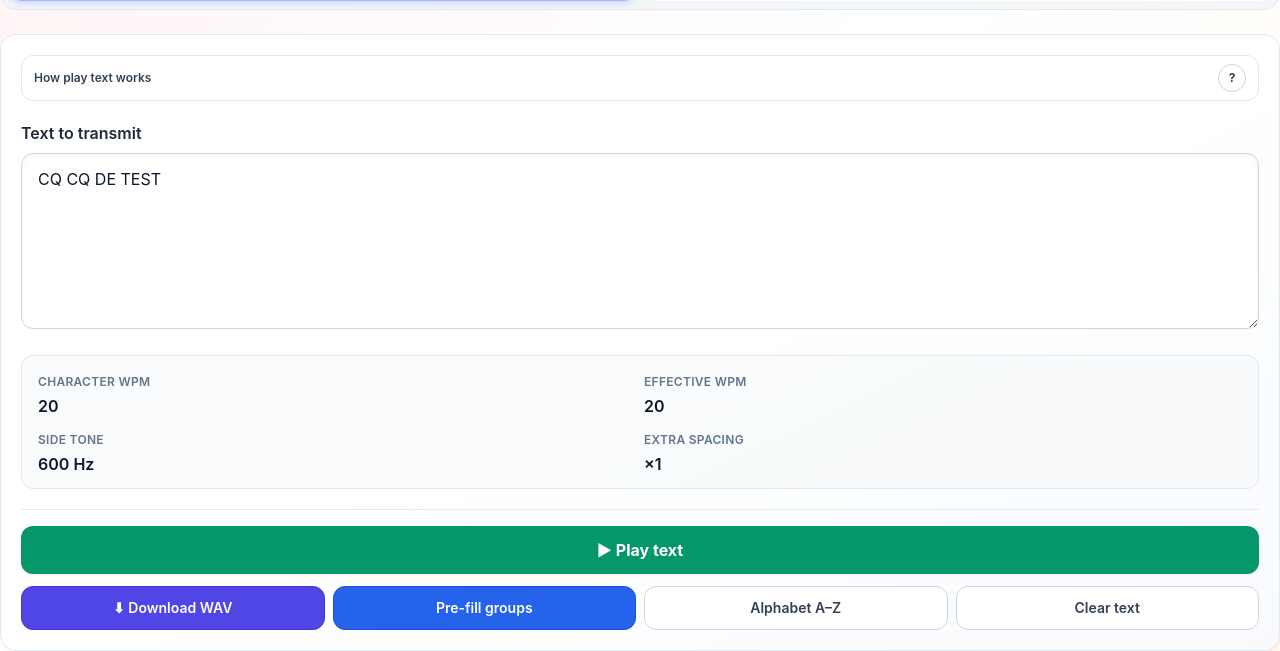
TextPlayer › should prefill text with the alphabet
(page scrolled)
Click the button "Alphabet A–Z": point(796, 608) [644,586,948,630]
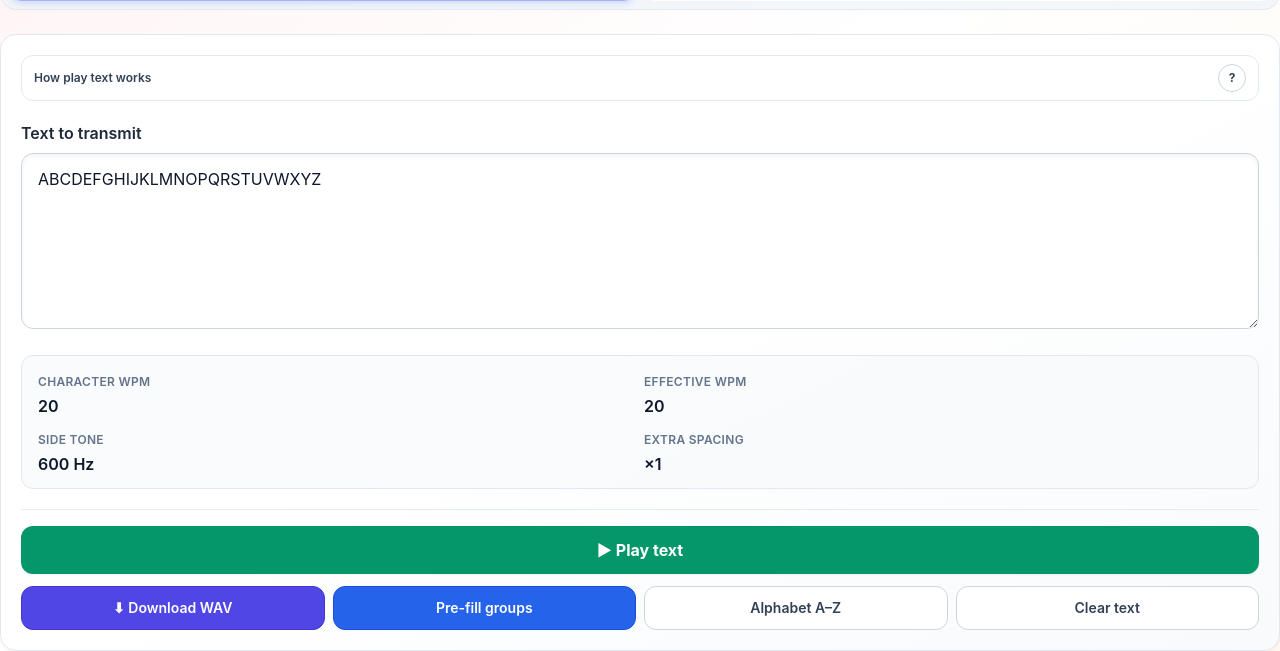
Expected: the text box showing "ABCDEFGHIJKLMNOPQRSTUVWXYZ" is shown, [21,153,1259,329]
